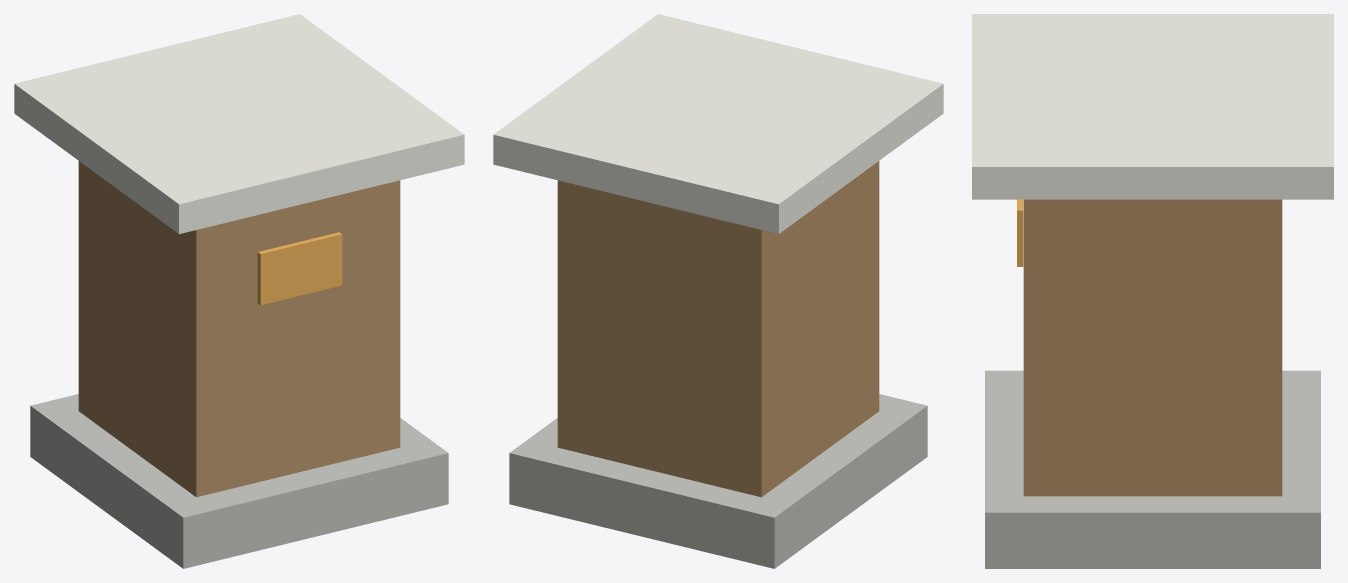
File: trophy_plinth.glb
3 renders of one model, left to right at view 1: azimuth 30°, elevation 25°; view 2: azimuth 150°, elevation 25°; view 3: azimuth 270°, elevation 25°, orthographic. The views are drawn at different scales.
Visible parts, largest first — view 1: trophy-plinth; view 2: trophy-plinth; view 3: trophy-plinth.
Part boxes in pixels (x1,y1,x2,y2): trophy-plinth: (14, 14, 464, 568); trophy-plinth: (493, 14, 943, 568); trophy-plinth: (972, 14, 1333, 568).
Size of the model in its own units: 0.7 by 0.87 by 0.7.
